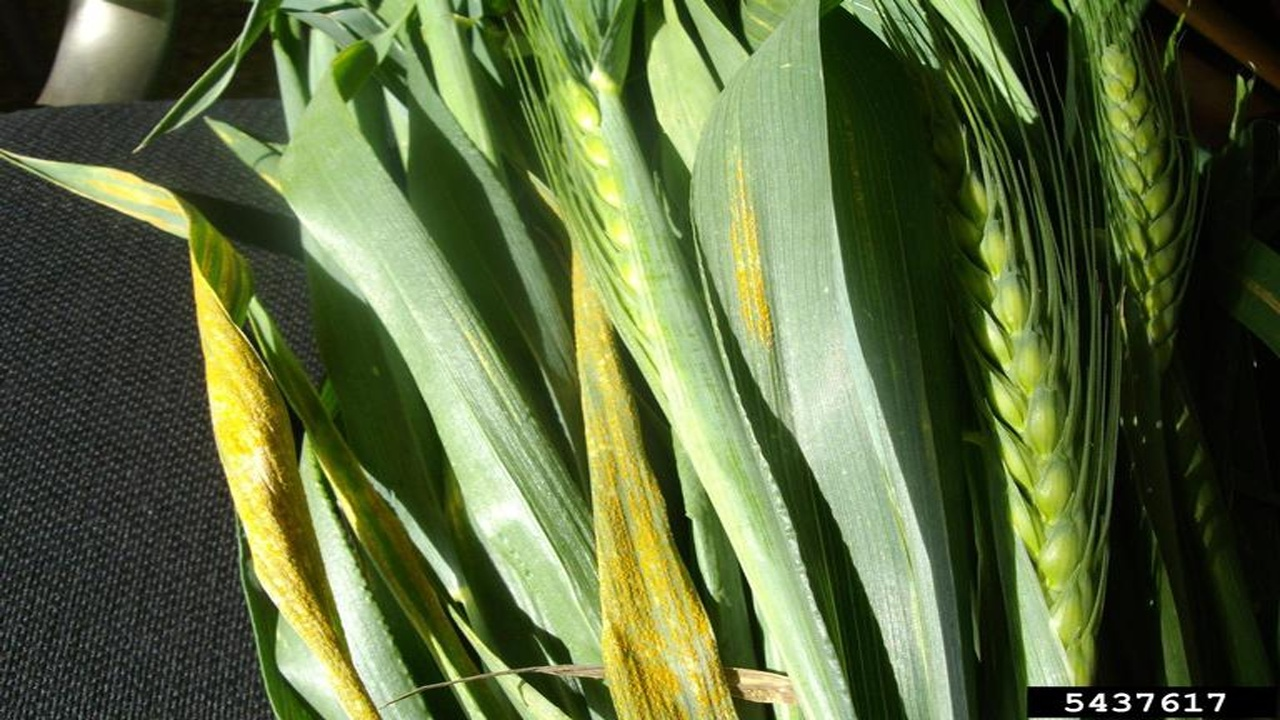stripe_rust: (190, 209, 379, 720), (571, 245, 734, 720), (694, 104, 871, 409), (1, 154, 184, 246)
